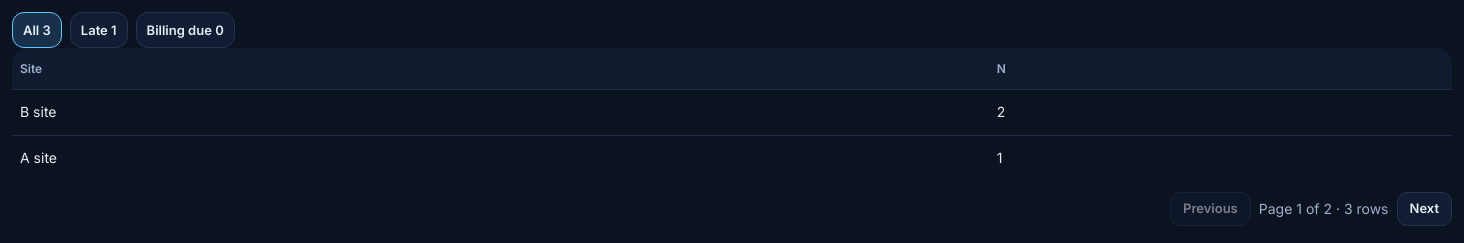
Scenario: Table › sorts, filters with counted chips, pages, and says what to do when empty
Check: the text "Page 1 of 2 · 3 rows" is shown, box [1259,199,1389,219]
Click the column heading "Site" at (500, 69), box [12,48,989,89]
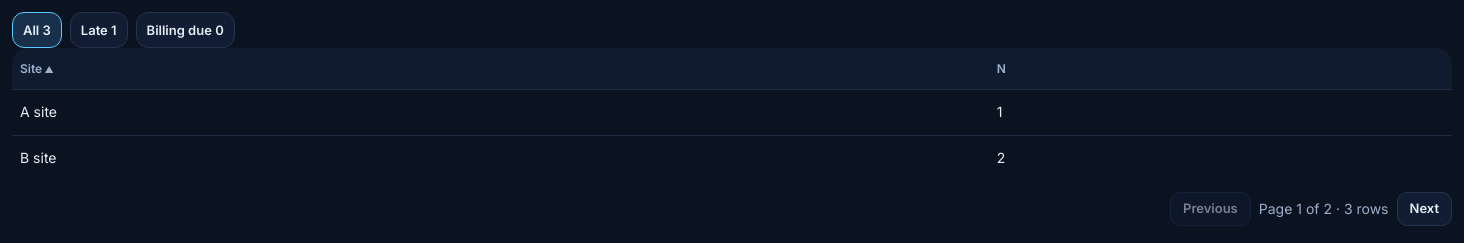
Check: the row "A site 1" is shown, box [12,89,1452,135]
Check: the column heading "Site" has attribute aria-sort="ascending"
Click the column heading "Site" at (500, 69), box [12,48,989,89]
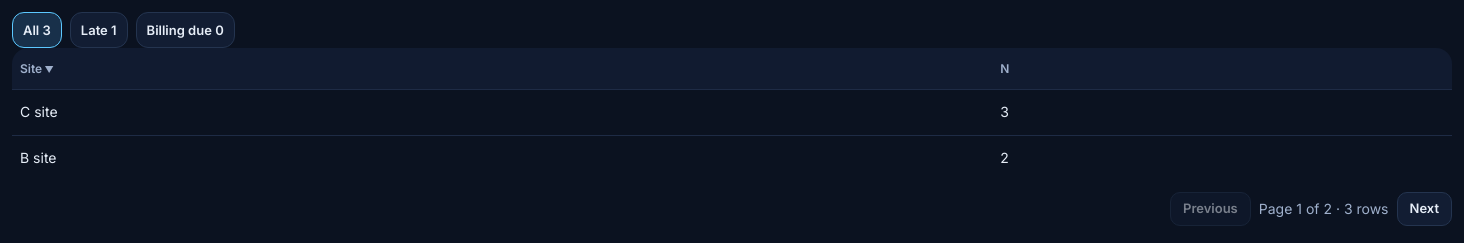
Check: the row "C site 3" is shown
Press Enter in the row "C site 3", box [12,89,1452,135]
Click the button "Late 1" at (99, 30), box [70,12,128,48]
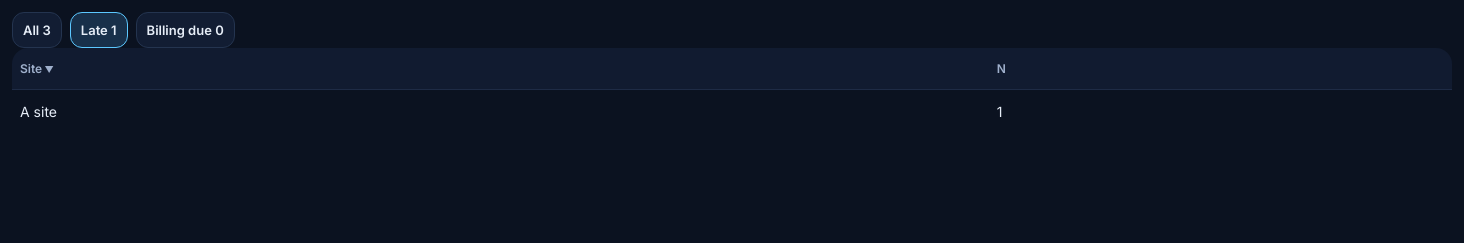
Check: the number of rows is 2, box [12,48,1452,89]; [12,89,1452,135]
Click the button "Billing due 0" at (185, 30), box [136,12,235,48]
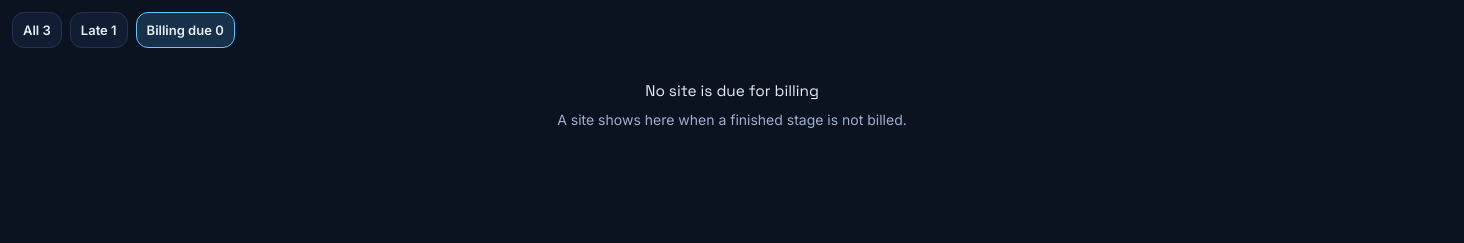
Check: the text "No site is due for billing" is shown, box [645,80,819,102]
Check: the text "A site shows here when a finished stage is not billed." is shown, box [557,110,907,131]
